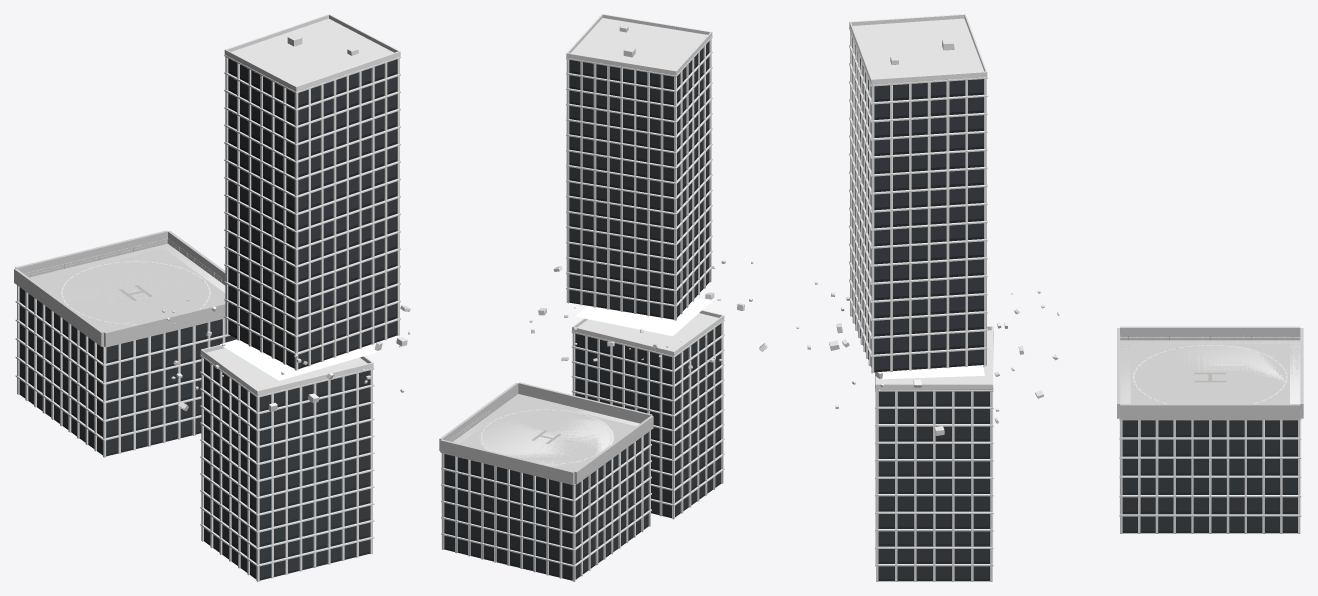
3 views of the same model, side by side, from view 1: azimuth 30°, elevation 25°; view 2: azimuth 150°, elevation 25°; view 3: azimuth 270°, elevation 25° (orthographic). The views are drawn at different scales.
Visible parts, largest first — view 1: ch2_c7_static, col_c7_pad, col_c7_edge_n, col_c7_edge_s, col_c7_edge_w, col_c7_edge_e; view 2: ch2_c7_static, col_c7_pad, col_c7_edge_n, col_c7_edge_s, col_c7_edge_w, col_c7_edge_e, col_c7_deck; view 3: ch2_c7_static, col_c7_pad, col_c7_edge_e, col_c7_edge_w, col_c7_deck.
Boxes of the visible parts, <box> form: ch2_c7_static: <box>15,14,410,581</box>; col_c7_pad: <box>33,248,225,331</box>; col_c7_edge_n: <box>15,230,167,277</box>; col_c7_edge_s: <box>104,303,225,347</box>; col_c7_edge_w: <box>14,268,103,346</box>; col_c7_edge_e: <box>168,231,225,285</box>; ch2_c7_static: <box>441,14,767,581</box>; col_c7_pad: <box>460,398,635,471</box>; col_c7_edge_n: <box>440,439,574,484</box>; col_c7_edge_s: <box>518,382,652,423</box>; col_c7_edge_w: <box>574,415,653,484</box>; col_c7_edge_e: <box>439,382,518,450</box>; col_c7_deck: <box>471,394,587,428</box>; ch2_c7_static: <box>796,14,1301,581</box>; col_c7_pad: <box>1130,344,1289,403</box>; col_c7_edge_e: <box>1120,404,1300,419</box>; col_c7_edge_w: <box>1120,326,1300,340</box>; col_c7_deck: <box>1120,340,1300,403</box>.
Bounding box in the file's own units: 54.84 × 108 × 95.61.
